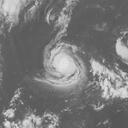cyclone: (41, 2, 126, 88)
